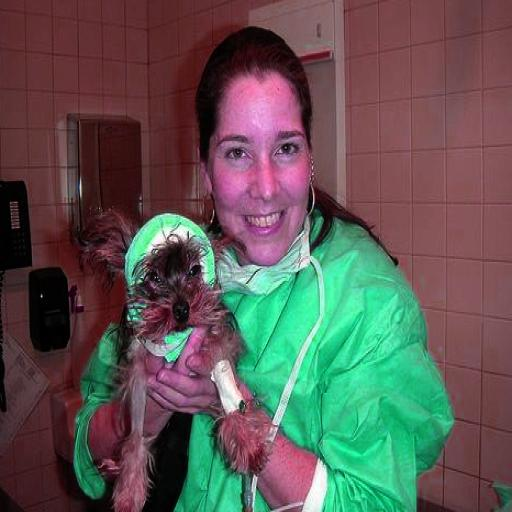dog_face: (84, 215, 223, 346)
